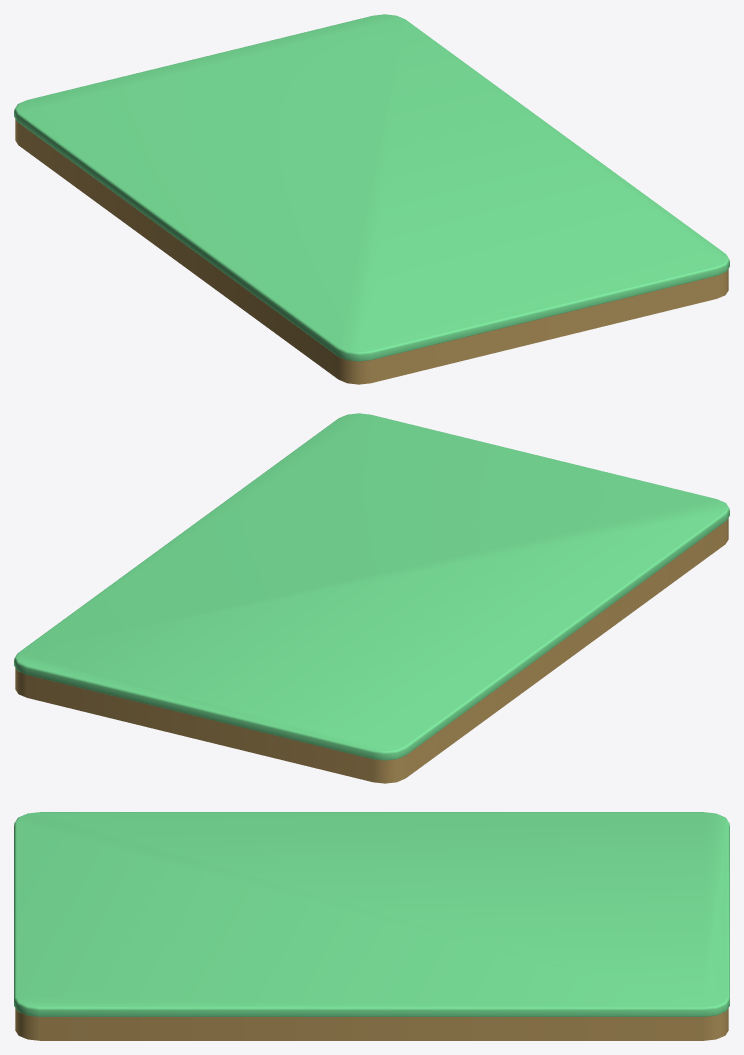
File: çiçekmarketzemin.fbx
3 views of the same model, one above another, from view 1: azimuth 30°, elevation 25°; view 2: azimuth 150°, elevation 25°; view 3: azimuth 270°, elevation 25° (orthographic). The views are drawn at different scales.
Visible parts, largest first — view 1: Cube; view 2: Cube; view 3: Cube.
Boxes of the visible parts, left/top/right/bottom form: Cube: left=14, top=14, right=729, bottom=384; Cube: left=14, top=413, right=729, bottom=783; Cube: left=14, top=812, right=729, bottom=1040.
Bounding box in the file's own units: 1.31 × 0.1024 × 2.01.
